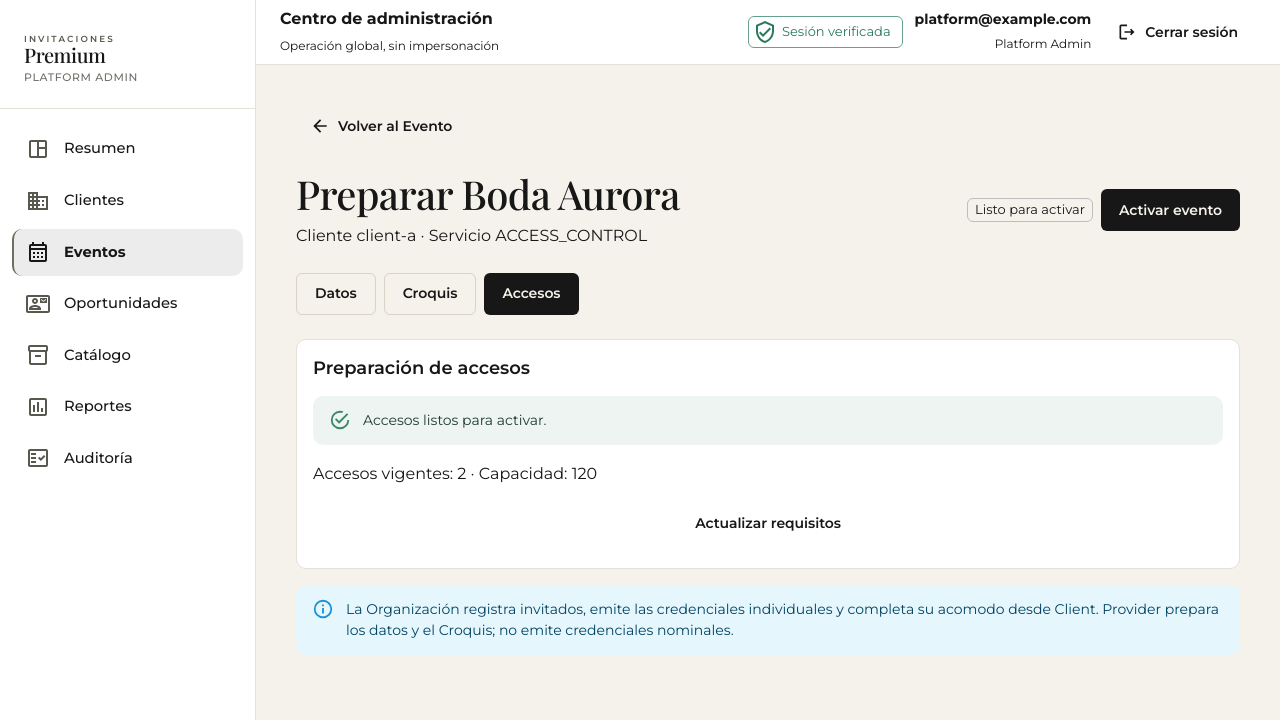
Test case: Provider ACCESS_CONTROL › activates a genuinely READY NOMINAL Organization through the Provider route
Click the button "Activar evento". click: [1170, 210]
box: [1101, 189, 1240, 231]
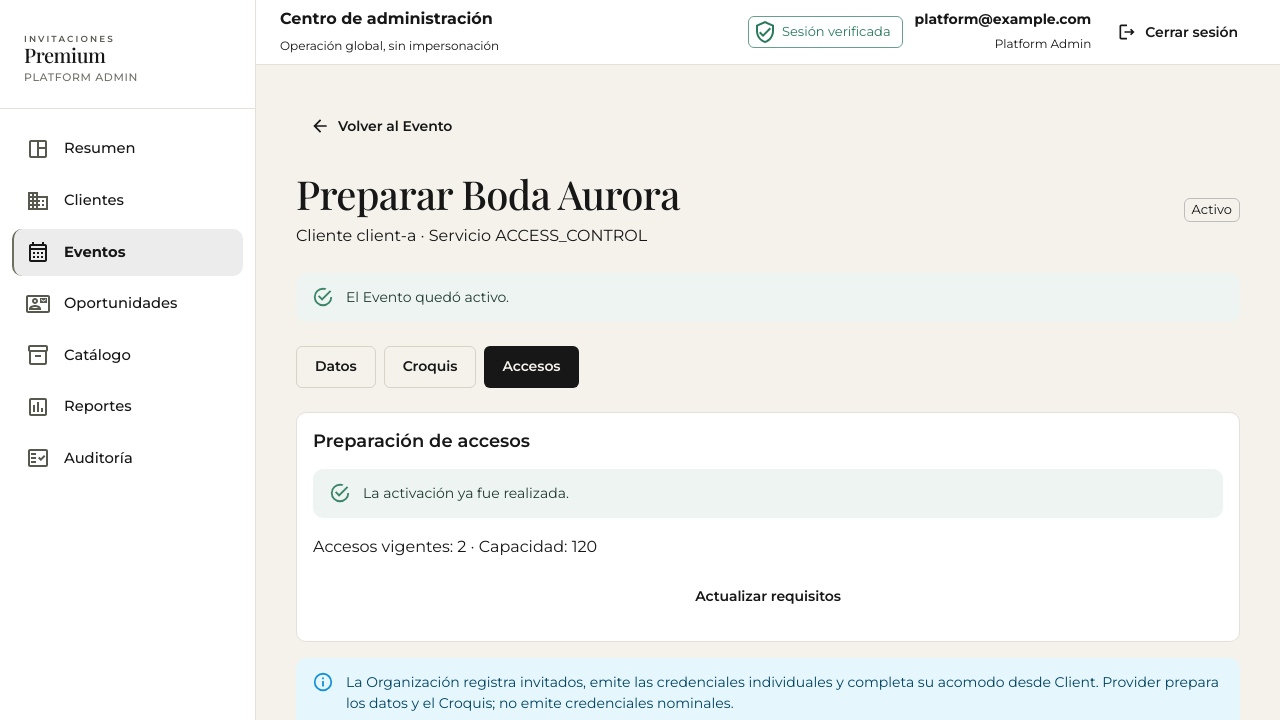
Expected: the text "El Evento quedó activo." is shown, [346, 288, 509, 306]
Expected: the button "Activar evento" is gone
